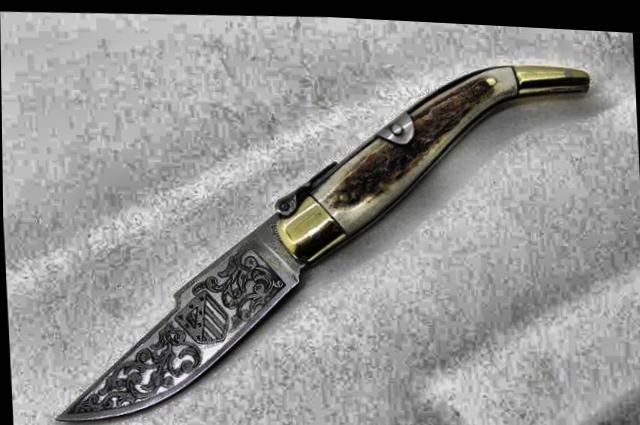knife: (38, 198, 325, 425)
